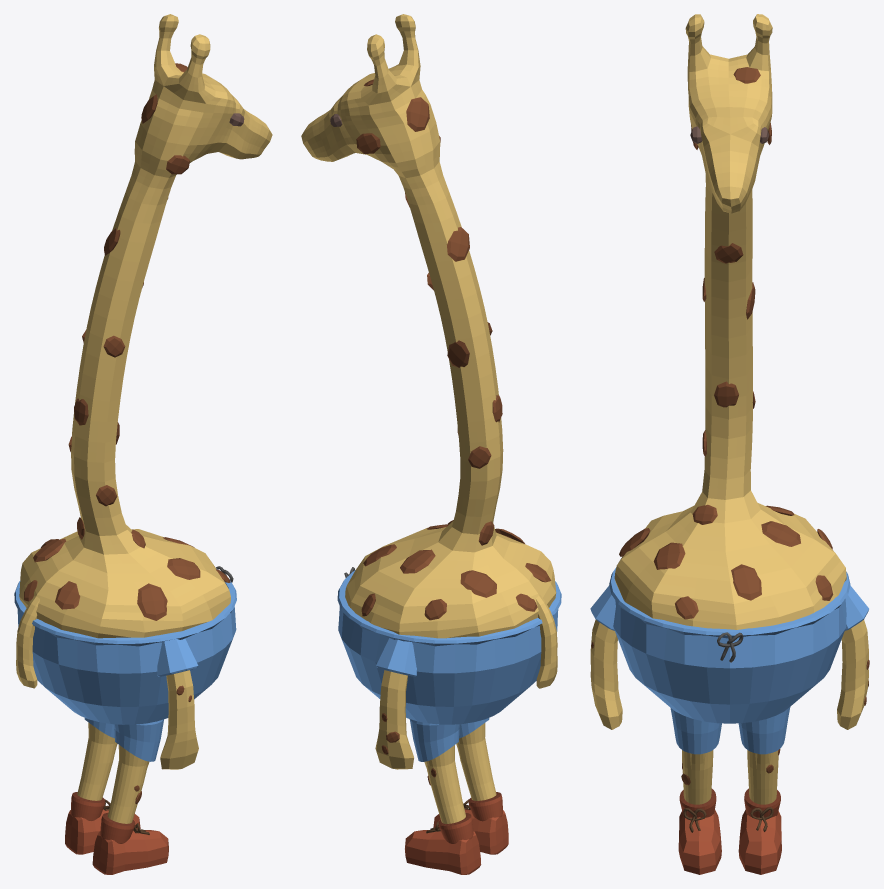
The model's file is npc2.fbx.
3 renders of one model, left to right at view 1: azimuth 30°, elevation 25°; view 2: azimuth 150°, elevation 25°; view 3: azimuth 270°, elevation 25°, orthographic. The views are drawn at different scales.
Parts seen in each view (by area): view 1: Cube.013; view 2: Cube.013; view 3: Cube.013.
Part boxes in pixels (x1,y1,x2,y2): Cube.013: [14, 14, 272, 874]; Cube.013: [301, 14, 561, 874]; Cube.013: [590, 14, 869, 874].
Bounding box in the file's own units: 192 × 591 × 171.
